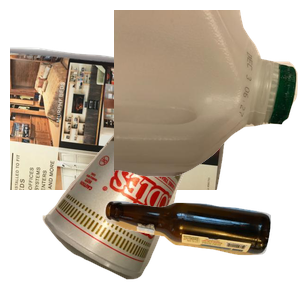glass: (101, 198, 300, 300)
paper: (10, 44, 232, 224)
plastic: (114, 10, 300, 179)
trash: (40, 121, 221, 300)
